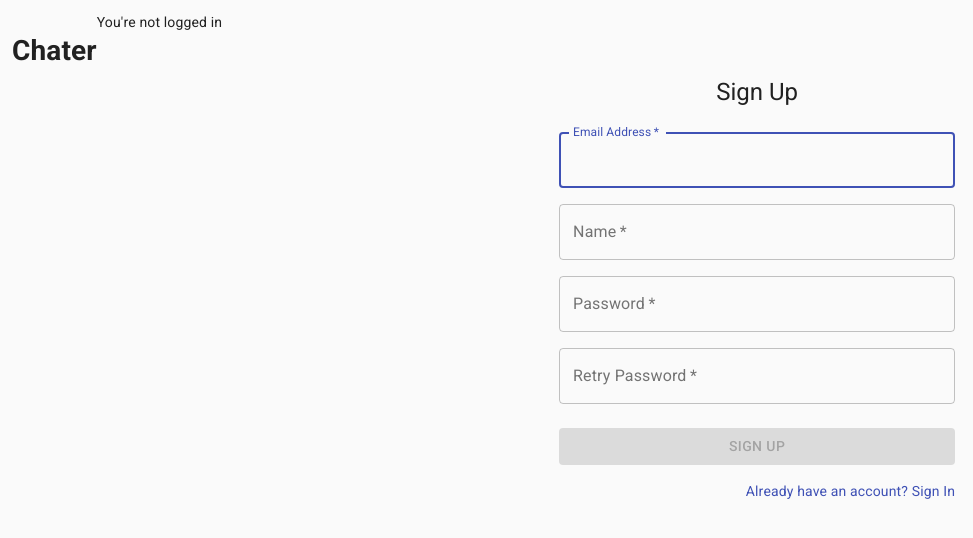
Test: User with this email already exists error
Expected: the heading "Sign Up" is shown, top-left (716, 76), bottom-right (798, 108)
Type "name@chater.com" into the field labelled "Email Address *". click: (757, 160)
box: top-left (559, 132), bottom-right (955, 188)
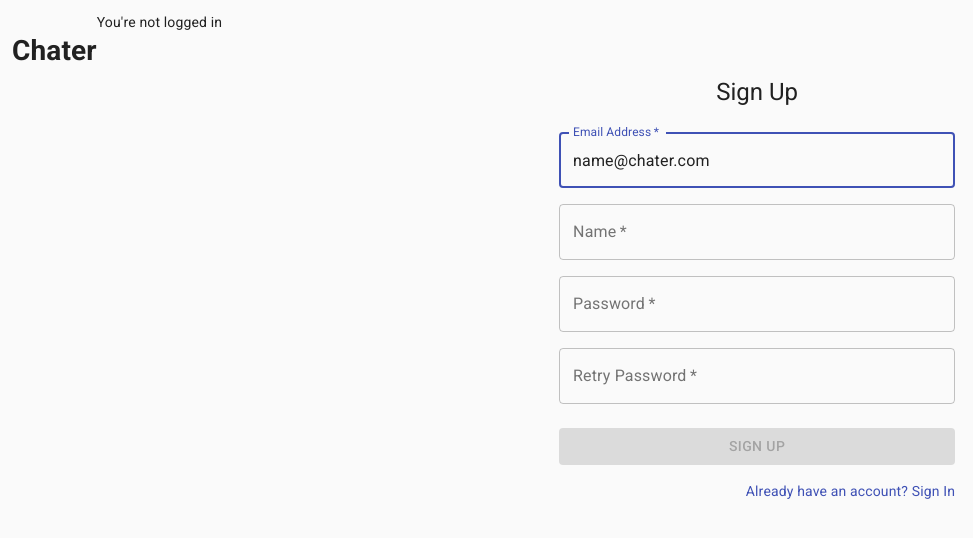
Type "Name" into the field labelled "Name *". click: (757, 232)
box: top-left (559, 204), bottom-right (955, 260)
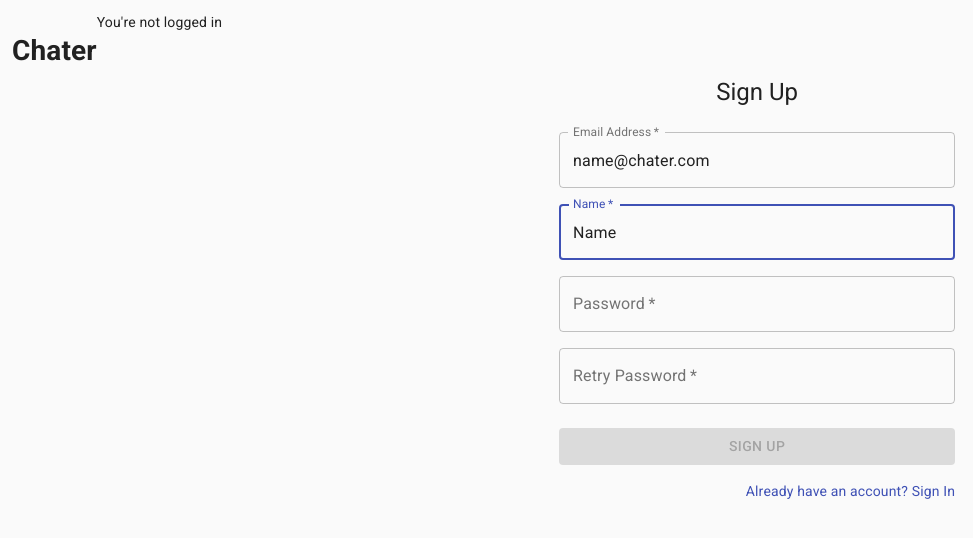
Type "password" into the password field labelled "Password *". click: (757, 304)
box: top-left (559, 276), bottom-right (955, 332)
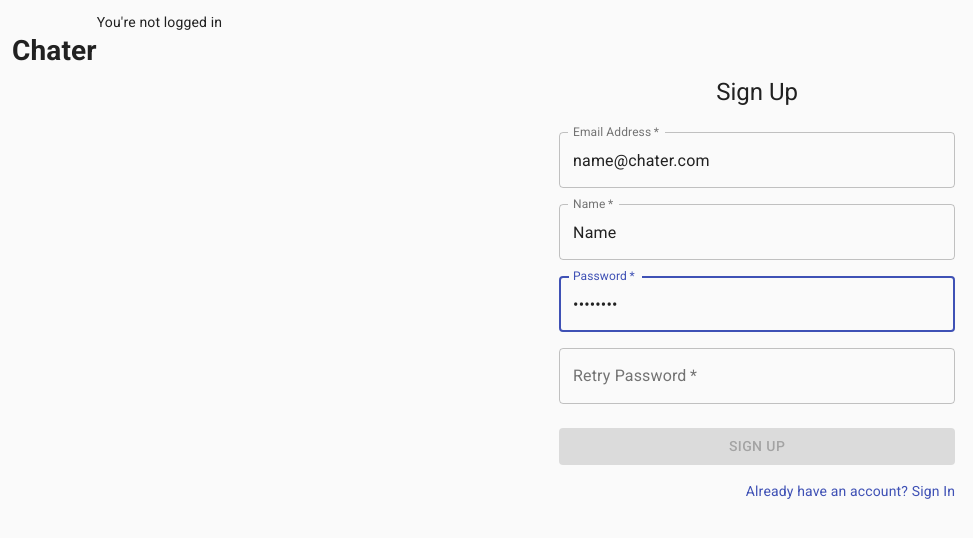
Type "password" into the password field labelled "Retry Password *". click: (757, 376)
box: top-left (559, 348), bottom-right (955, 404)
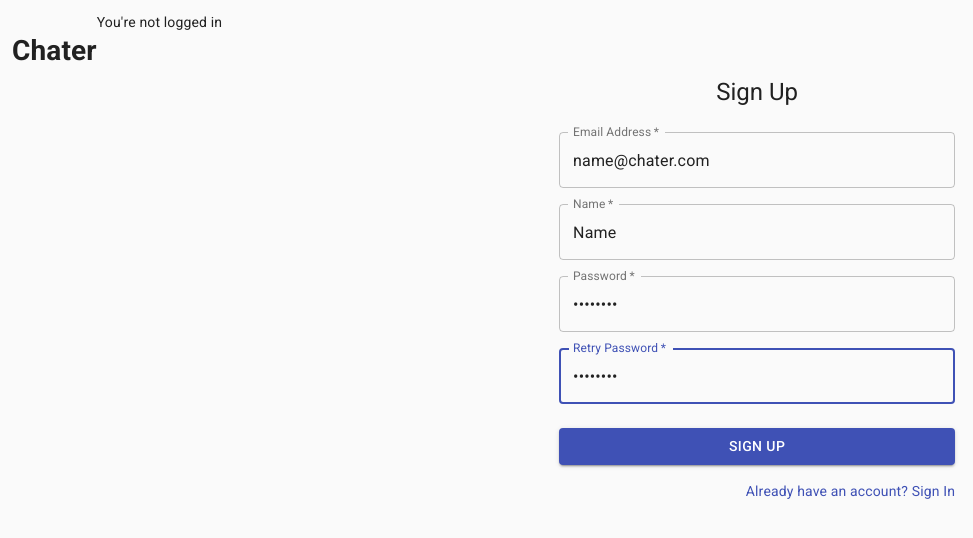
Click the button "Sign Up". click: click(757, 446)
box: top-left (559, 428), bottom-right (955, 464)
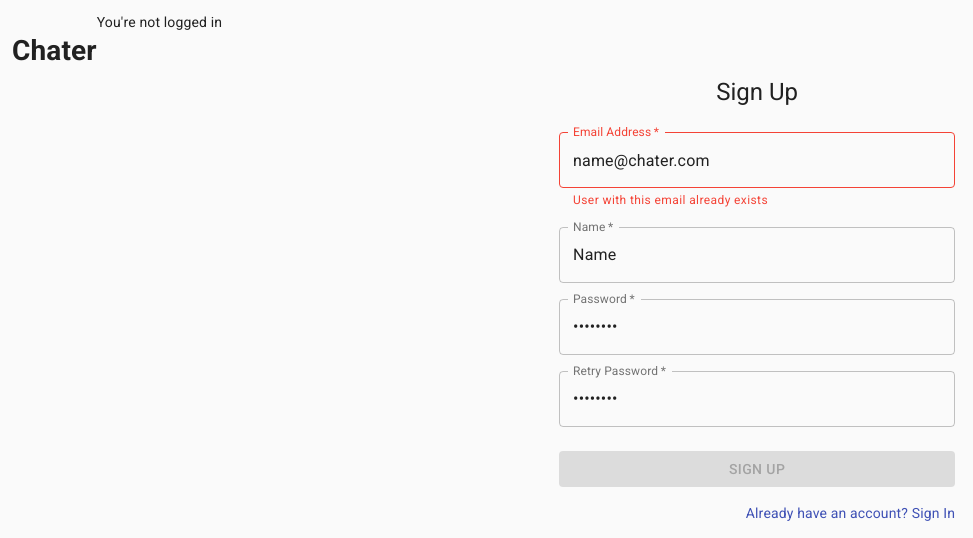
Result: the text "User with this email already exists" is shown at top-left (573, 193), bottom-right (768, 207)
